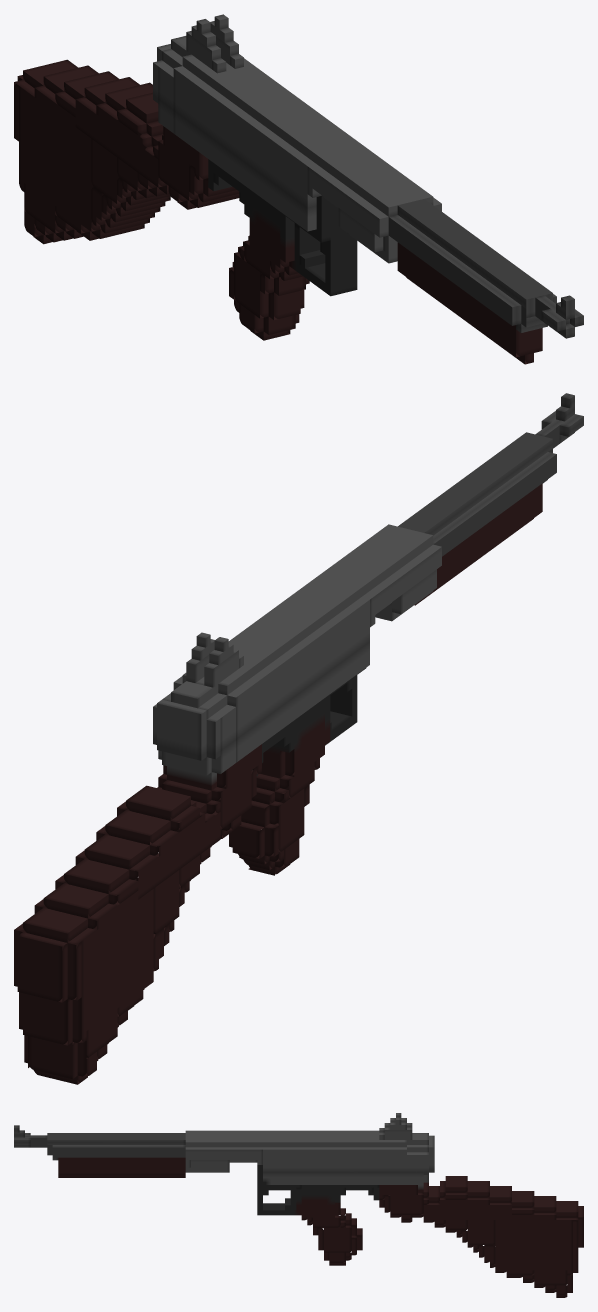
File: ThompsonBody.obj
The picture shows the model from 3 angles, top to bottom: view 1: azimuth 30°, elevation 25°; view 2: azimuth 150°, elevation 25°; view 3: azimuth 270°, elevation 25°; orthographic projection. The views are drawn at different scales.
Visible parts, largest first — view 1: Model; view 2: Model; view 3: Model.
Part boxes in pixels (x1,y1,x2,y2): Model: [14, 14, 583, 364]; Model: [14, 393, 583, 1084]; Model: [14, 1113, 583, 1297].
Bounding box in the file's own units: 2.17 × 10.87 × 32.
1 material, 1 textured.
